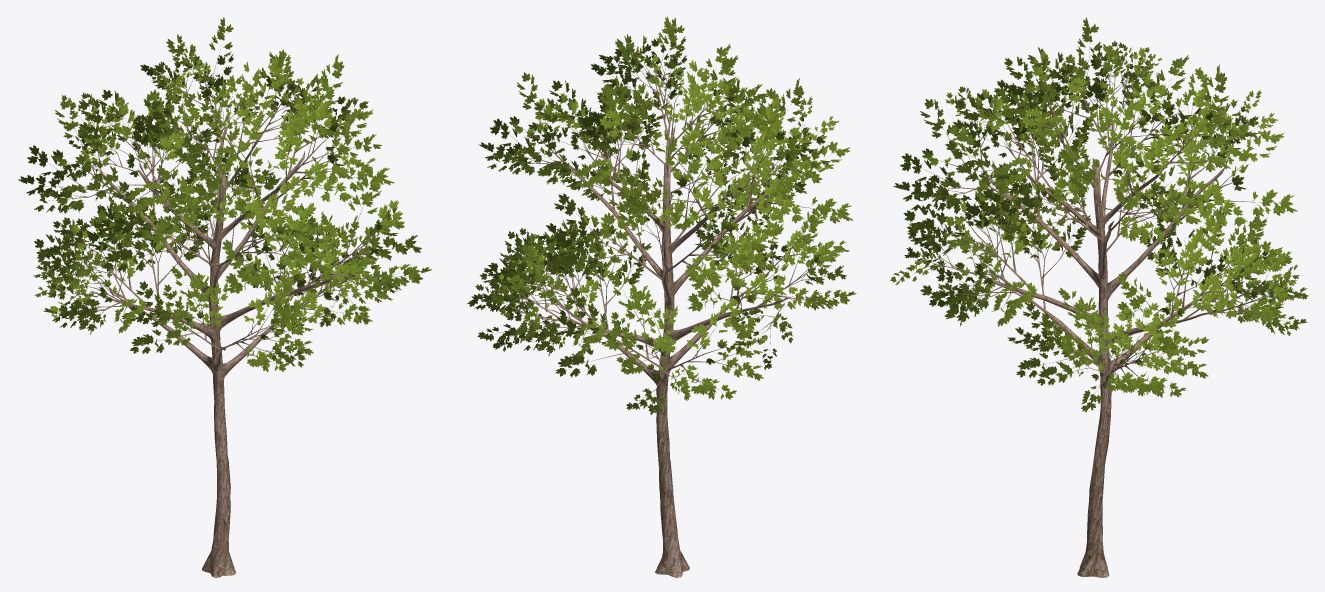
The model's file is maple12.obj.
The picture shows the model from 3 angles, left to right: view 1: azimuth 30°, elevation 25°; view 2: azimuth 150°, elevation 25°; view 3: azimuth 270°, elevation 25°; orthographic projection. The views are drawn at different scales.
Parts seen in each view (by area): view 1: leaf maple, bark02; view 2: leaf maple, bark02; view 3: leaf maple, bark02.
Boxes of the visible parts, left/top/right/bottom form: leaf maple: left=18, top=17, right=431, bottom=372; bark02: left=44, top=50, right=406, bottom=577; leaf maple: left=467, top=16, right=856, bottom=414; bark02: left=488, top=45, right=838, bottom=577; leaf maple: left=890, top=17, right=1308, bottom=412; bark02: left=910, top=43, right=1291, bottom=577.
Bounding box in the file's own units: 571 × 832 × 591.
Materials: 2 (2 with a texture image).
